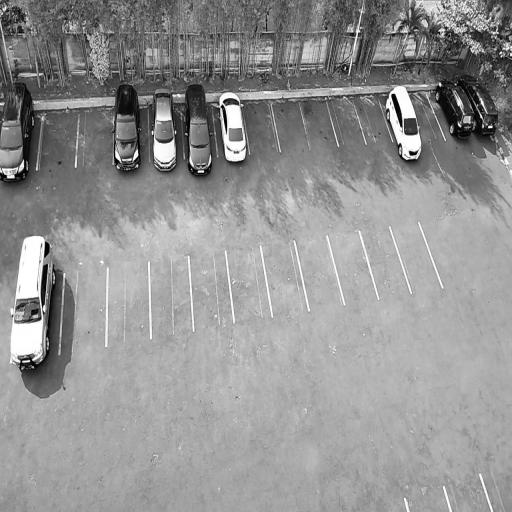Car: (5, 233, 59, 371), (379, 80, 427, 169), (0, 78, 38, 186), (181, 82, 217, 180), (431, 72, 477, 143), (112, 81, 145, 174), (456, 70, 500, 136), (216, 87, 251, 165), (150, 85, 180, 174)
Space Available: (60, 268, 106, 354), (328, 231, 378, 305), (390, 222, 442, 293), (295, 236, 344, 310), (261, 241, 308, 317), (360, 227, 410, 298), (150, 256, 193, 338), (190, 250, 233, 330), (108, 262, 149, 345), (227, 246, 271, 322), (37, 114, 79, 169), (299, 101, 339, 151), (76, 111, 112, 166), (271, 102, 310, 152), (242, 104, 281, 154), (353, 98, 393, 144), (410, 91, 446, 142), (327, 100, 366, 146), (445, 473, 491, 512), (405, 487, 450, 511)
